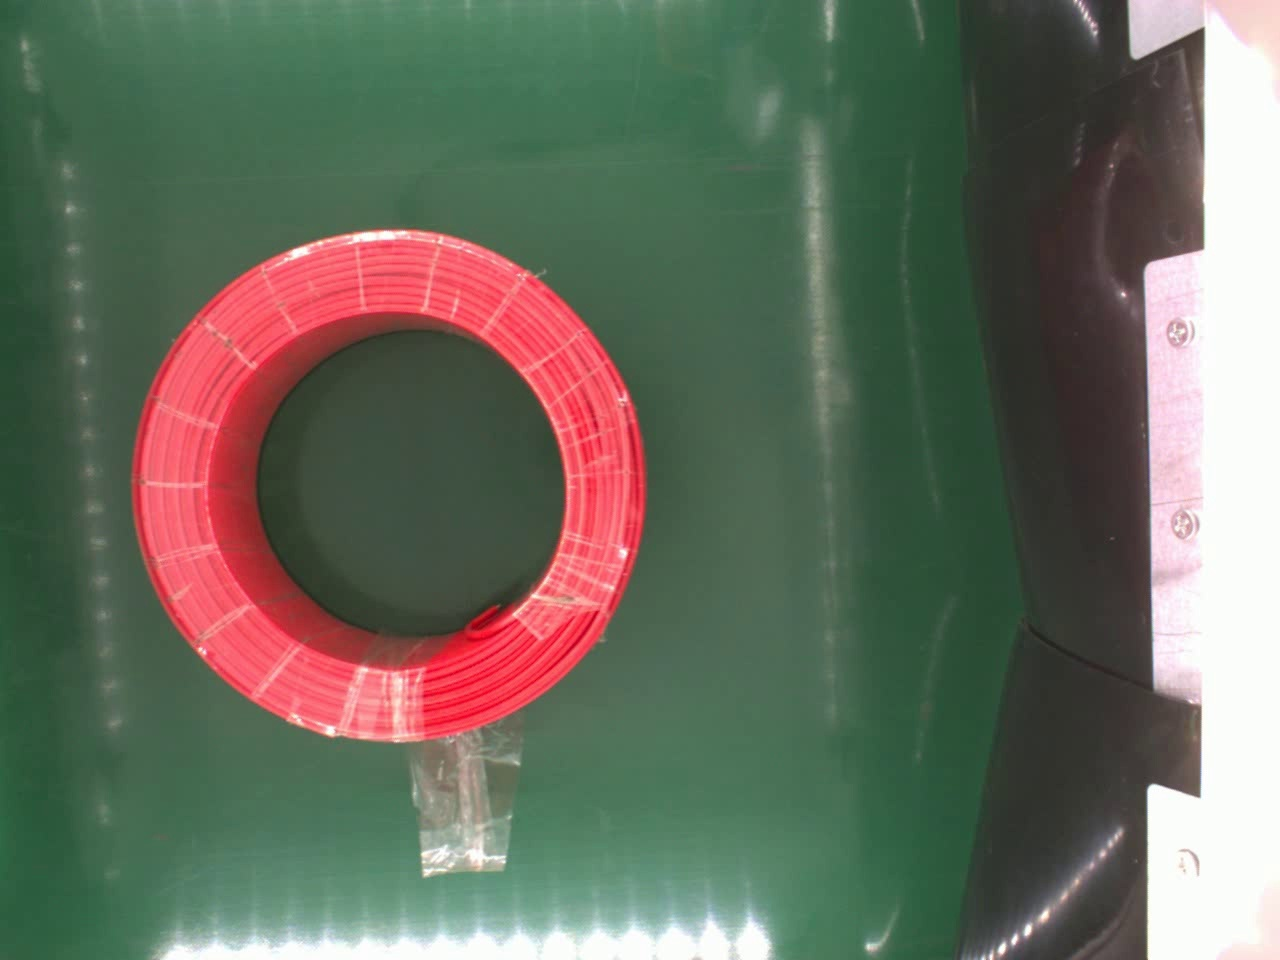red: (125, 225, 644, 745)
